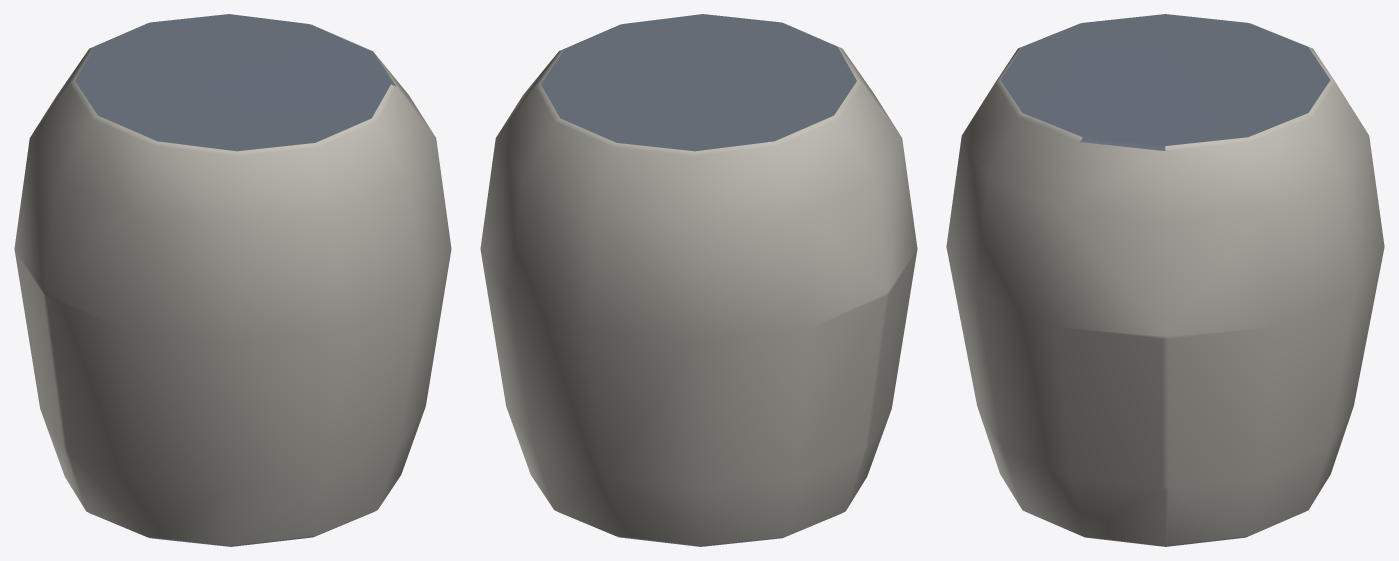
The model's file is upper_arm.glb.
3 renders of one model, left to right at view 1: azimuth 30°, elevation 25°; view 2: azimuth 150°, elevation 25°; view 3: azimuth 270°, elevation 25°, orthographic.
Visible parts, largest first — view 1: upper_arm; view 2: upper_arm; view 3: upper_arm.
Part boxes in pixels (x1,y1,x2,y2): upper_arm: (14,14,451,546); upper_arm: (480,14,917,546); upper_arm: (946,14,1384,546).
Bounding box in the file's own units: 0.998 × 1 × 1.
